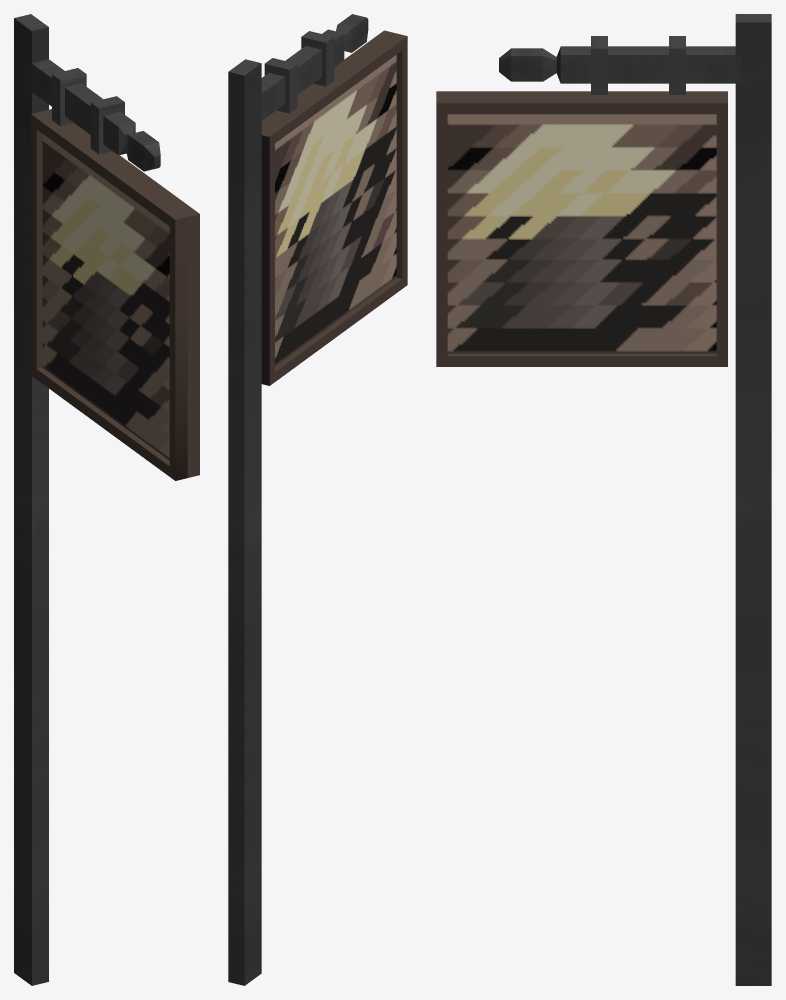
Rendered from sign_361x01.obj.
3 renders of one model, left to right at view 1: azimuth 30°, elevation 25°; view 2: azimuth 150°, elevation 25°; view 3: azimuth 270°, elevation 25°, orthographic. The views are drawn at different scales.
Parts seen in each view (by area): view 1: Sign_361x1; view 2: Sign_361x1; view 3: Sign_361x1.
Boxes of the visible parts, left/top/right/bottom form: Sign_361x1: left=14, top=14, right=199, bottom=985; Sign_361x1: left=228, top=14, right=407, bottom=985; Sign_361x1: left=436, top=14, right=771, bottom=985.
Bounding box in the file's own units: 0.1154 × 3.99 × 1.26.
